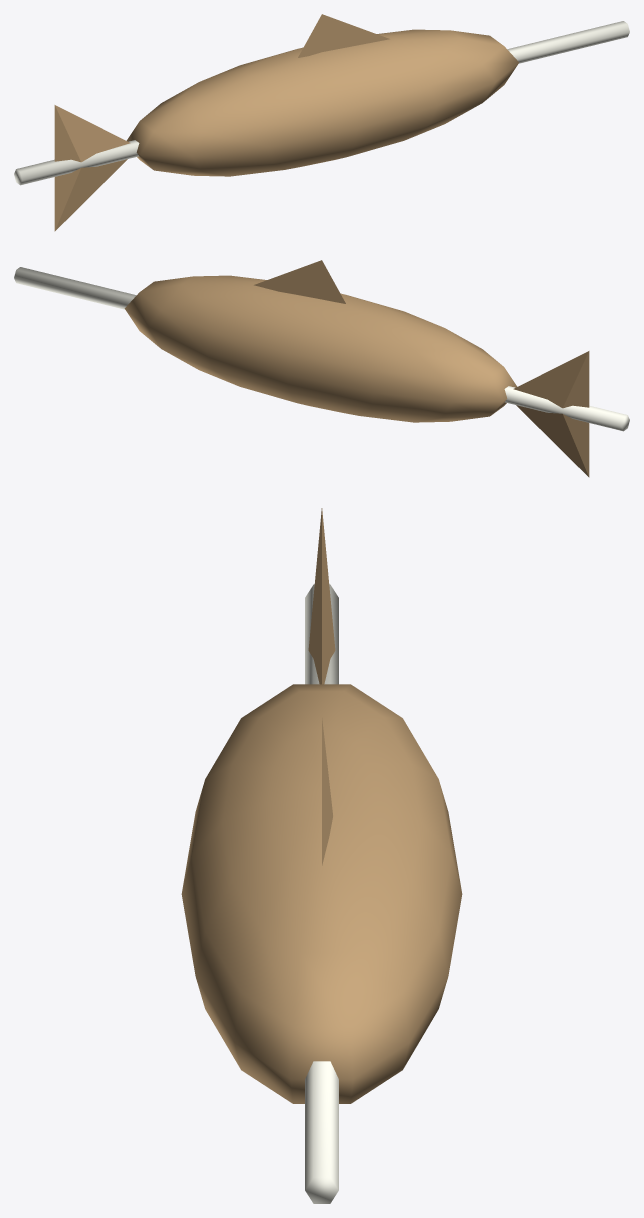
Rendered from SM_Item_fish_cooked.gltf.
The picture shows the model from 3 angles, top to bottom: view 1: azimuth 30°, elevation 25°; view 2: azimuth 150°, elevation 25°; view 3: azimuth 270°, elevation 25°; orthographic projection. The views are drawn at different scales.
Visible parts, largest first — view 1: SM_Item_fish_cooked; view 2: SM_Item_fish_cooked; view 3: SM_Item_fish_cooked.
Boxes of the visible parts, bbox=[...] form: SM_Item_fish_cooked: bbox=[14, 14, 629, 231]; SM_Item_fish_cooked: bbox=[14, 260, 629, 477]; SM_Item_fish_cooked: bbox=[181, 508, 462, 1203].
Size of the model in its own units: 0.5 by 0.12 by 0.1.
